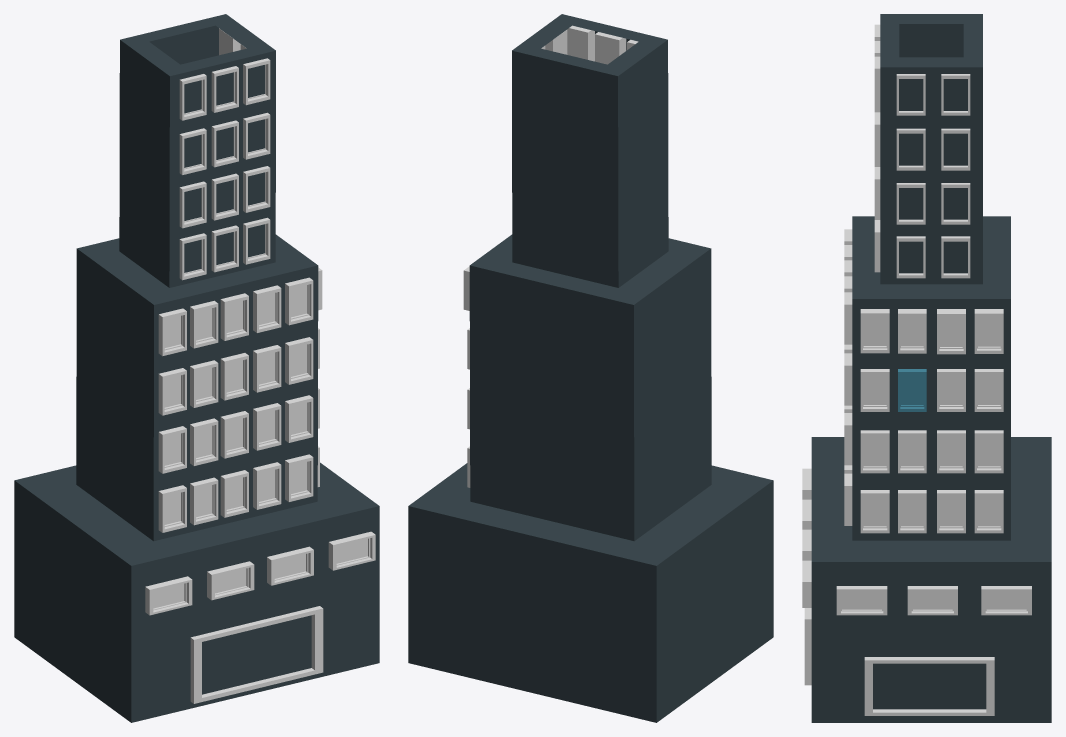
File: Bina1.fbx
3 renders of one model, left to right at view 1: azimuth 30°, elevation 25°; view 2: azimuth 150°, elevation 25°; view 3: azimuth 270°, elevation 25°, orthographic. The views are drawn at different scales.
Parts seen in each view (by area): view 1: gökdelen.001, Cube.024, pencere.155, pencere.156, pencere.159, pencere.157, pencere.132, pencere.149, pencere.126, pencere.134, pencere.135, pencere.139 (+26 smaller); view 2: gökdelen.001, pencere.094, pencere.093; view 3: gökdelen.001, Cube.005, pencere.152, pencere.154, pencere.153, pencere.112, pencere.115, pencere.113, pencere.120, pencere.123, pencere.137, pencere.140 (+23 smaller).
Boxes of the visible parts, x1,y1,x2,y2 form: gökdelen.001: [14, 14, 379, 722]; Cube.024: [190, 606, 323, 703]; pencere.155: [145, 576, 192, 615]; pencere.156: [207, 561, 254, 600]; pencere.159: [328, 531, 375, 570]; pencere.157: [267, 546, 313, 585]; pencere.132: [253, 345, 281, 392]; pencere.149: [253, 462, 281, 509]; pencere.126: [220, 293, 248, 340]; pencere.134: [158, 426, 186, 473]; pencere.135: [190, 418, 218, 465]; pencere.139: [285, 395, 313, 442]; gökdelen.001: [408, 14, 773, 722]; pencere.094: [567, 25, 594, 61]; pencere.093: [595, 32, 626, 64]; gökdelen.001: [811, 14, 1051, 722]; Cube.005: [864, 657, 994, 715]; pencere.152: [836, 586, 887, 615]; pencere.154: [981, 586, 1031, 615]; pencere.153: [907, 586, 957, 615]; pencere.112: [974, 309, 1003, 353]; pencere.115: [860, 309, 889, 353]; pencere.113: [937, 309, 965, 354]; pencere.120: [974, 430, 1003, 473]; pencere.123: [860, 430, 889, 473]; pencere.137: [860, 490, 889, 533]; pencere.140: [974, 490, 1003, 533].
Bounding box in the file's own units: 1643 × 3732 × 1357.
